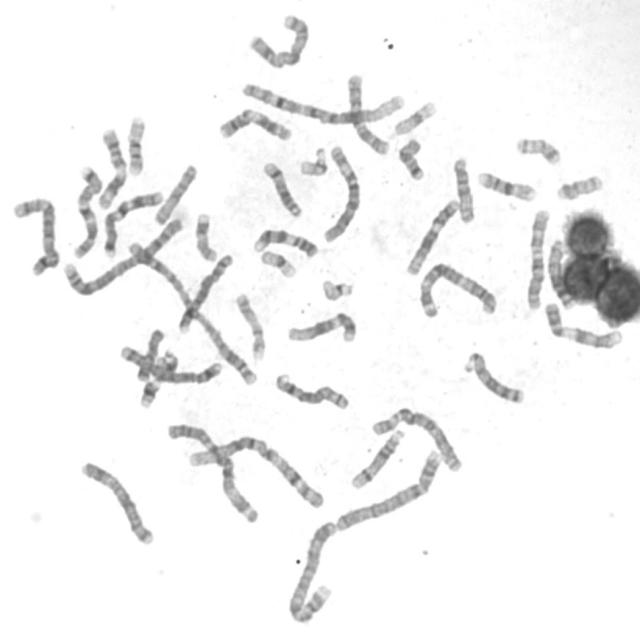A1: (169, 426, 328, 512), (238, 77, 408, 127)
A2: (121, 235, 261, 388), (60, 212, 187, 298)
A3: (163, 419, 261, 526), (414, 258, 500, 321)
B4: (332, 445, 445, 534), (284, 516, 339, 625)
B5: (117, 340, 225, 386), (8, 194, 62, 278)
C10: (344, 70, 392, 157), (523, 205, 552, 312)
C11: (93, 124, 128, 212), (215, 104, 294, 142)
C12: (403, 195, 461, 278), (284, 308, 359, 346)
C6: (368, 402, 466, 474), (319, 142, 363, 245)
C7: (99, 185, 166, 259), (69, 162, 105, 260)
C8: (175, 250, 236, 336), (272, 369, 352, 412)
C9: (541, 299, 625, 351), (249, 224, 321, 260)
D13: (461, 348, 527, 406), (544, 236, 576, 311)
D14: (348, 424, 408, 492), (260, 158, 304, 220)
D15: (151, 160, 199, 227), (450, 153, 478, 225)
E16: (474, 168, 539, 204), (123, 111, 149, 178)
E17: (232, 290, 268, 362), (191, 208, 220, 264)
E18: (134, 325, 166, 383), (395, 134, 427, 182)
F19: (391, 97, 439, 137), (257, 246, 299, 280)
F20: (512, 133, 564, 167), (554, 170, 606, 203)
G21: (135, 375, 163, 410), (156, 348, 180, 372)
G22: (297, 143, 330, 178), (318, 275, 356, 303)
X: (76, 457, 157, 548), (245, 9, 311, 71)
